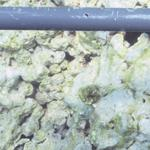dead: (8, 34, 148, 145)
